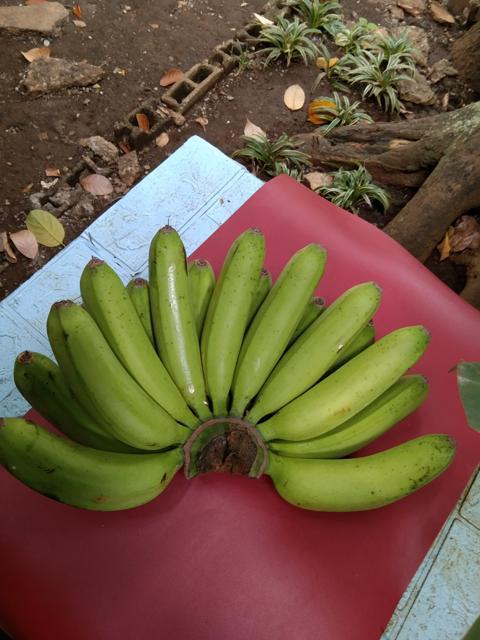freshunripe: (43, 294, 192, 447), (268, 321, 432, 444), (232, 239, 334, 416), (76, 251, 180, 420), (264, 277, 385, 413), (271, 436, 459, 515), (195, 221, 275, 401), (9, 346, 104, 430)
unripe: (0, 407, 184, 518)
